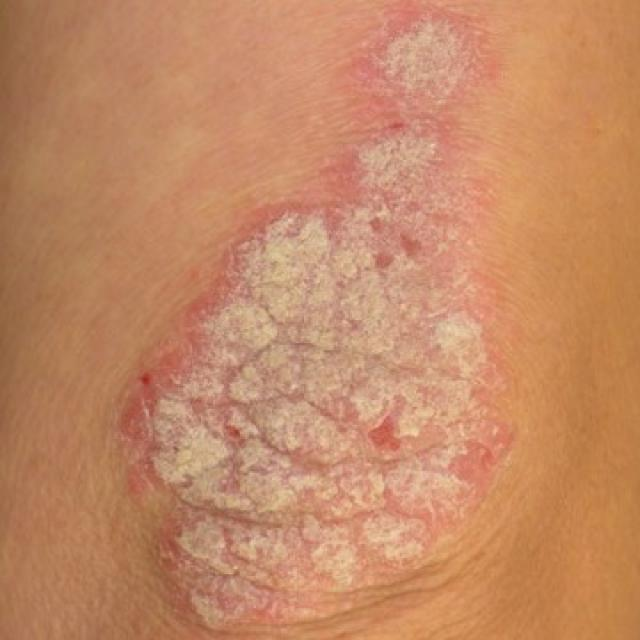Psoriasis: (106, 0, 508, 638)
